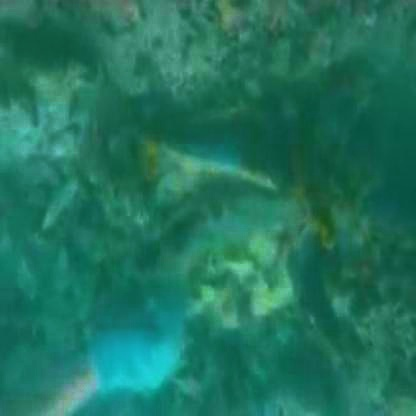plastic: (89, 310, 193, 396)
